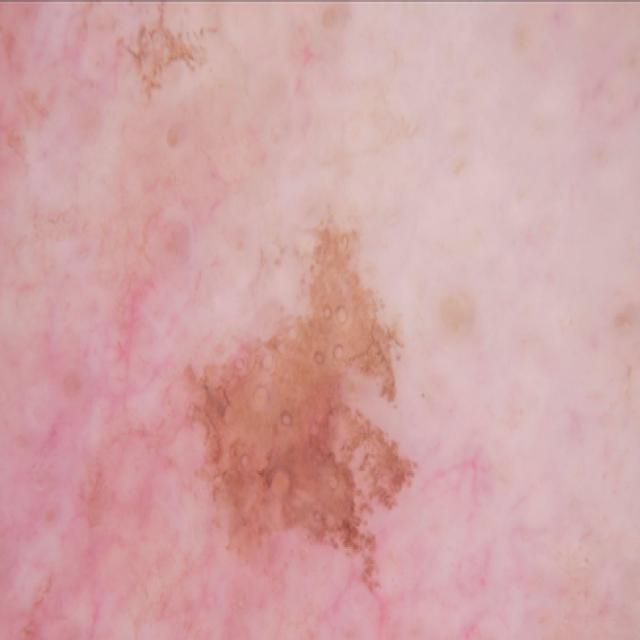Keratosis: (170, 192, 469, 616)
